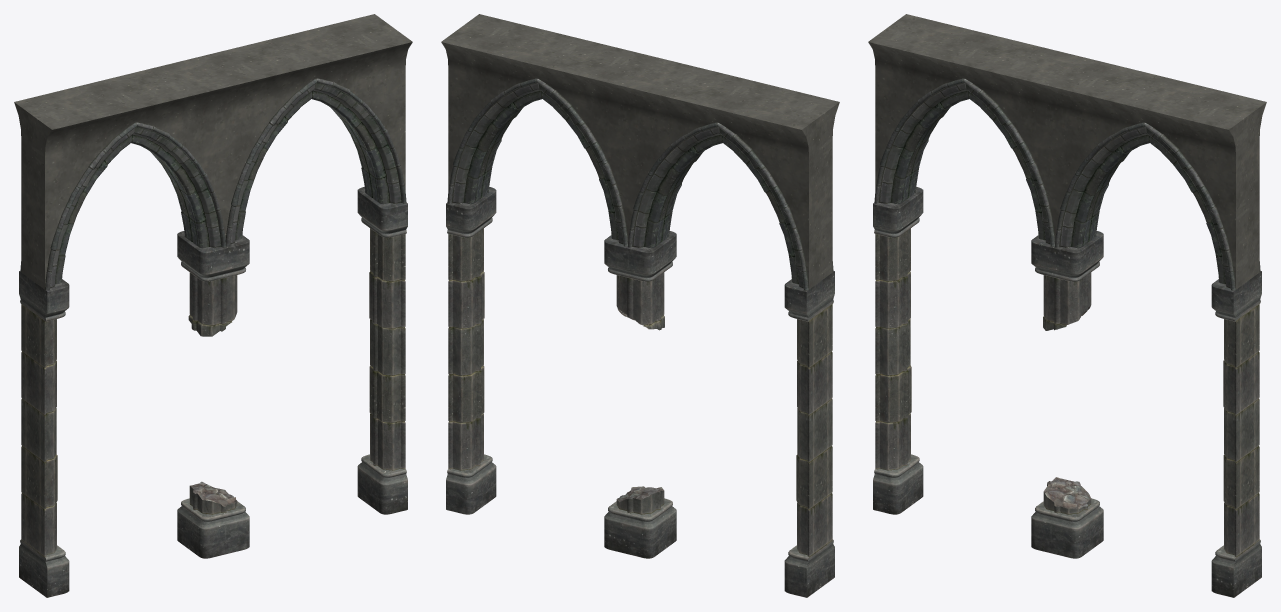
The picture shows the model from 3 angles, left to right: view 1: azimuth 30°, elevation 25°; view 2: azimuth 150°, elevation 25°; view 3: azimuth 330°, elevation 25°; orthographic projection.
Visible parts, largest first — view 1: SM_DeathTemple_Arch_dmg_12x16_01_v1_LOD0; view 2: SM_DeathTemple_Arch_dmg_12x16_01_v1_LOD0; view 3: SM_DeathTemple_Arch_dmg_12x16_01_v1_LOD0.
Boxes of the visible parts, <box> form: SM_DeathTemple_Arch_dmg_12x16_01_v1_LOD0: <box>14,14,412,597</box>; SM_DeathTemple_Arch_dmg_12x16_01_v1_LOD0: <box>441,14,839,597</box>; SM_DeathTemple_Arch_dmg_12x16_01_v1_LOD0: <box>868,14,1266,597</box>.
Size of the model in its own units: 12 by 15 by 2.2.
Materials: 4 (4 with a texture image).
